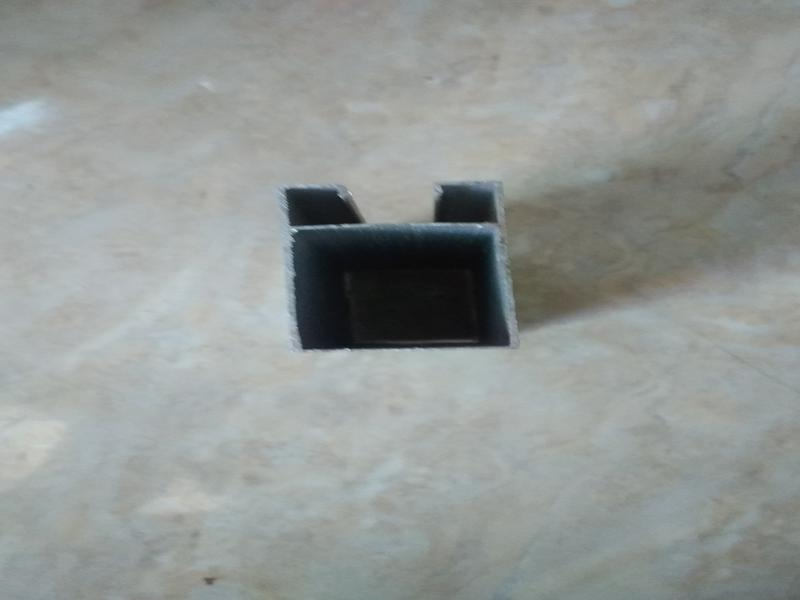Aluminium_1: (258, 162, 536, 361)
